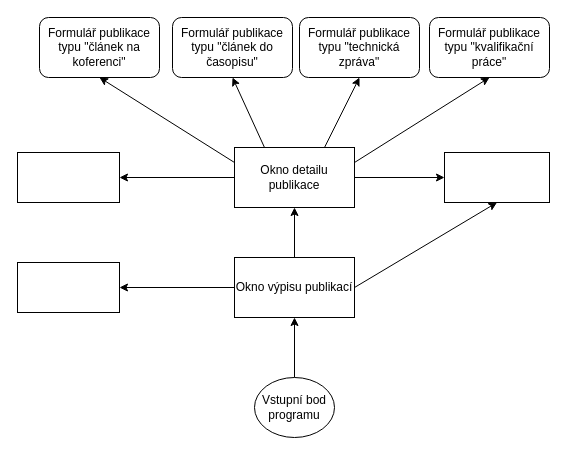
This 567x455 diagram has some shape labels left out. Here are the shapes that lost their labels. From the top down, the centre of each, then its label:
At (68,177): "Dialog vytvoření autora".
At (497,177): "Okno uložených autorů".
At (68,287): "Dialog popisu programu".
